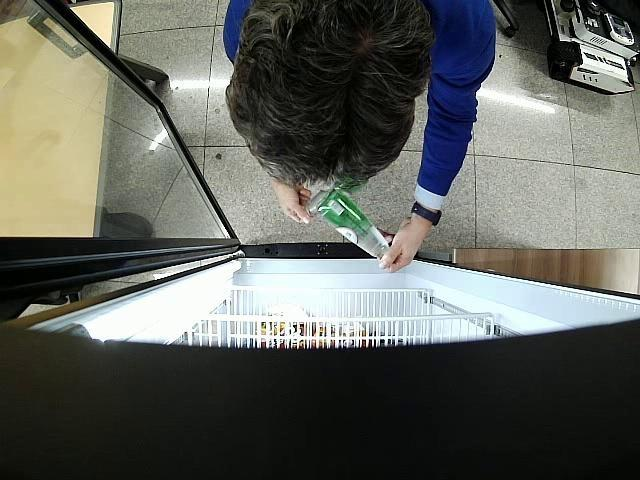18_trevi: (319, 190, 390, 260), (307, 178, 365, 214)
